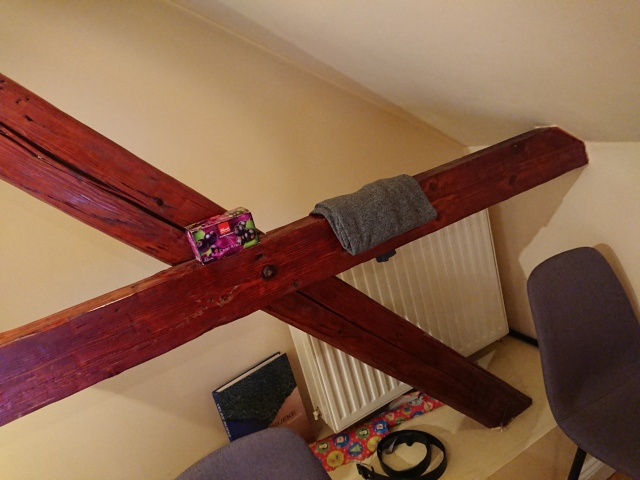Franck Black Currant Tea 60g: (182, 204, 262, 267)
